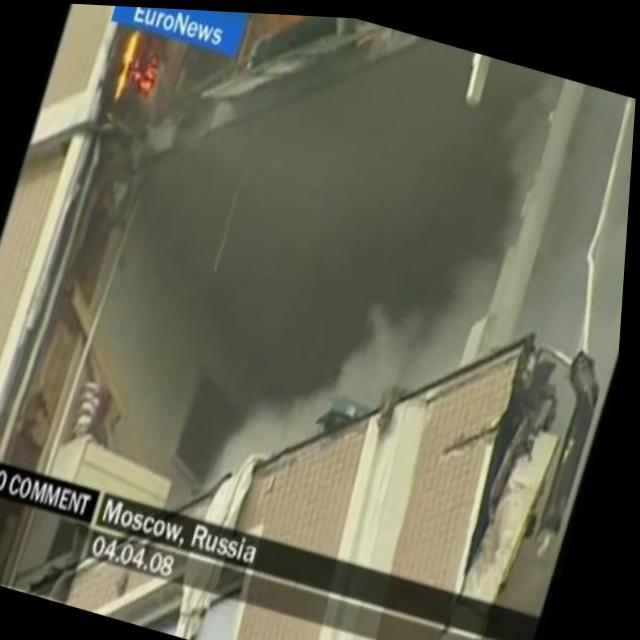fire: (104, 22, 173, 111)
